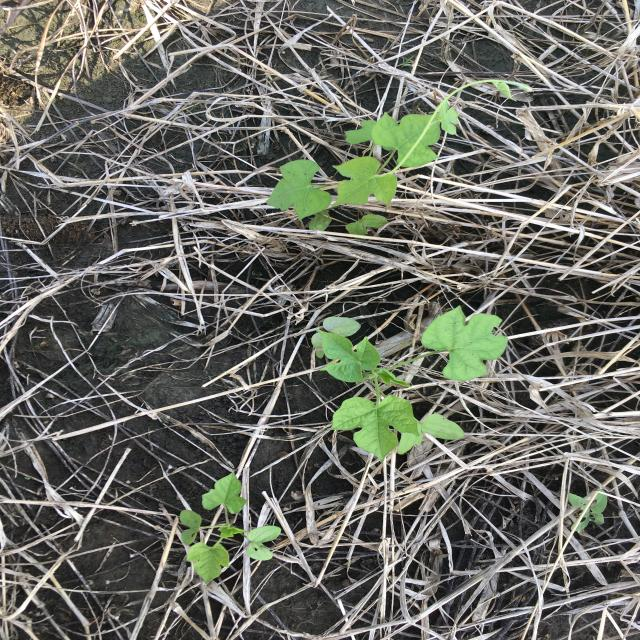MorningGlory: (262, 77, 534, 237), (308, 305, 512, 464), (176, 468, 285, 586)
